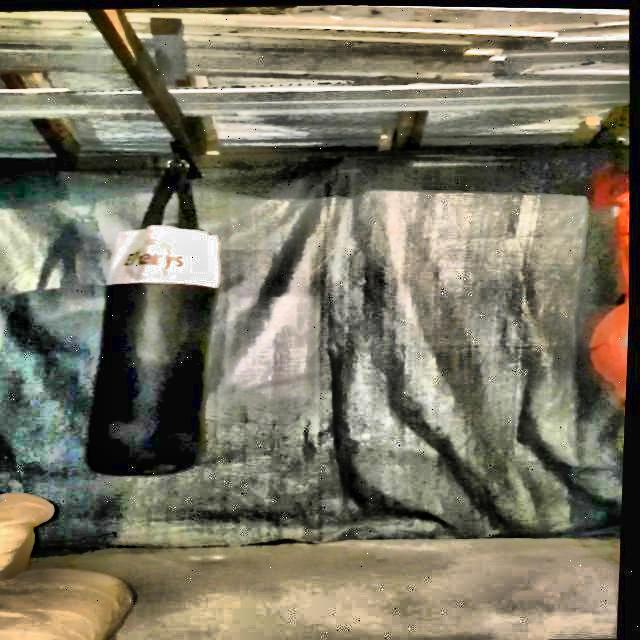boxing-bag: (76, 137, 232, 484)
